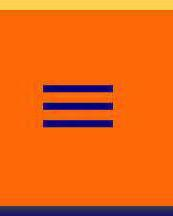ImgButton: (1, 1, 172, 215)
